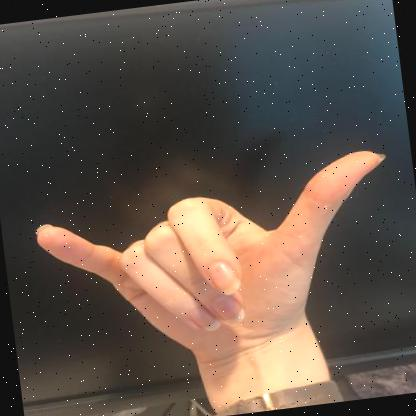Y: (35, 150, 385, 350)
